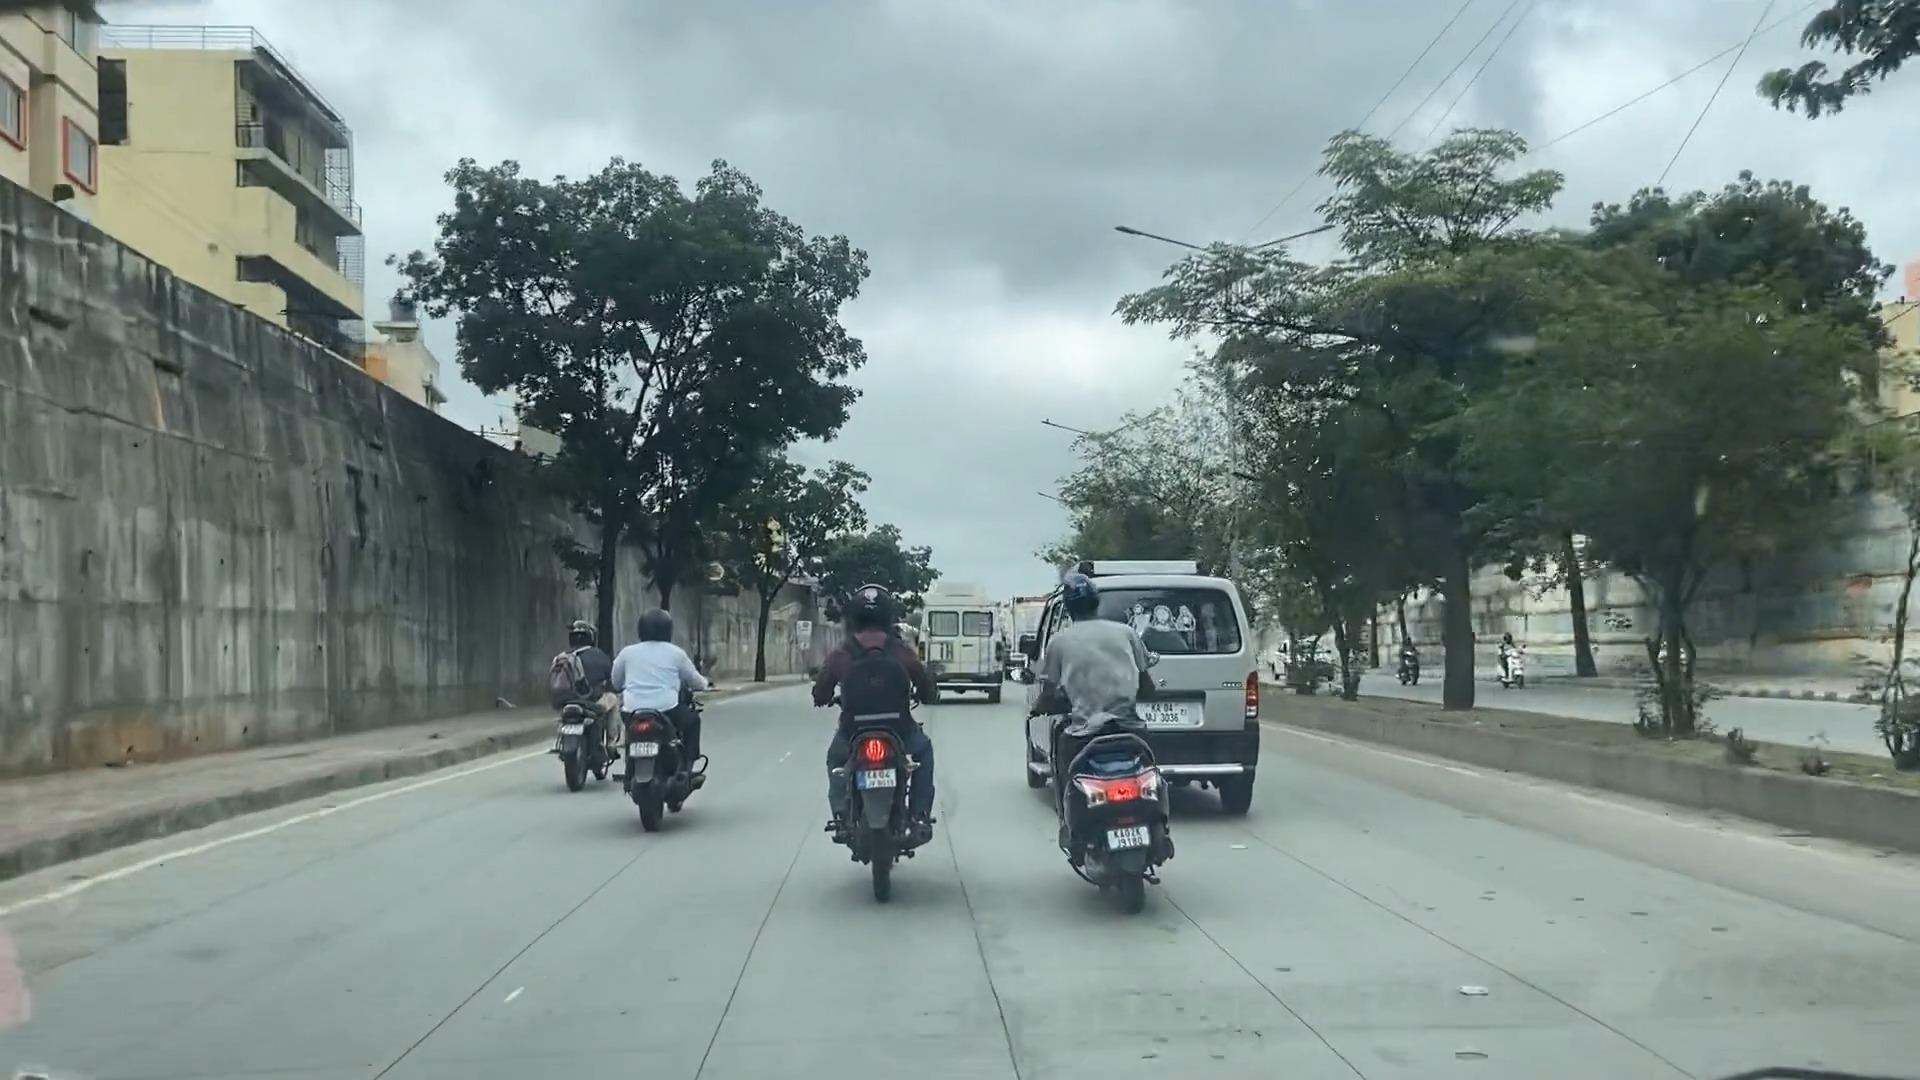LMV: (1015, 578, 1174, 918), (795, 583, 938, 870), (1092, 558, 1246, 811), (612, 597, 741, 827), (530, 625, 604, 746)
